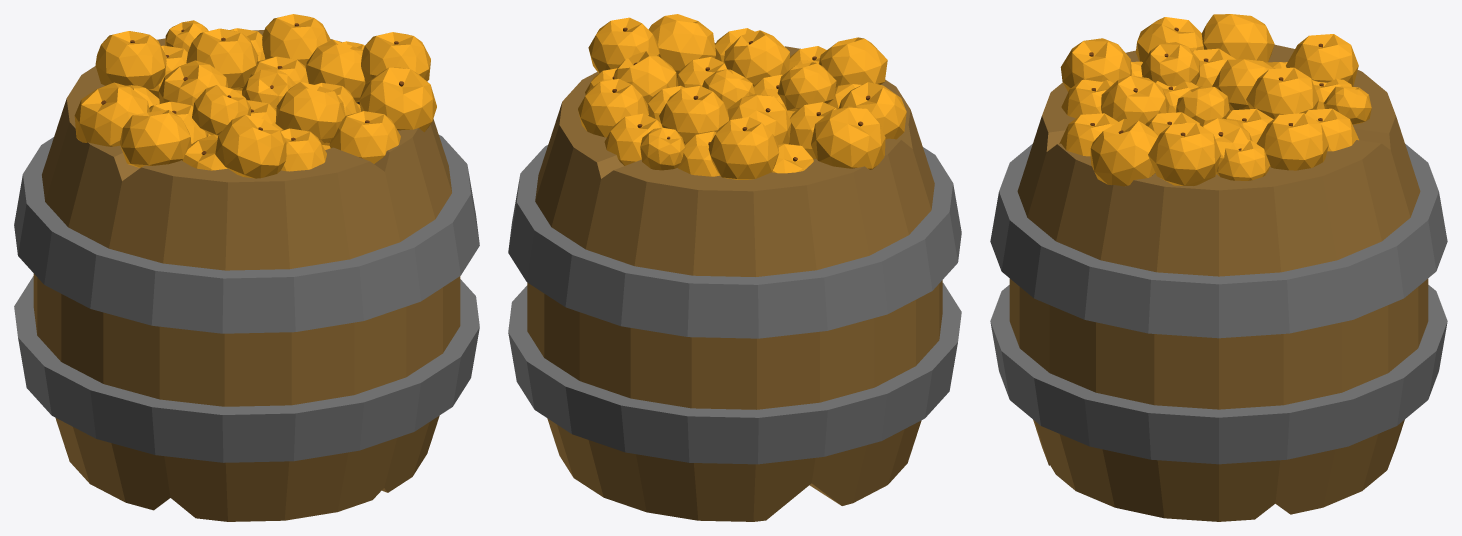
File: Barrel_Fruit_Lemons.fbx
3 views of the same model, side by side, from view 1: azimuth 30°, elevation 25°; view 2: azimuth 150°, elevation 25°; view 3: azimuth 270°, elevation 25° (orthographic). The views are drawn at different scales.
Parts seen in each view (by area): view 1: Barrel1.001, Lemon; view 2: Barrel1.001, Lemon; view 3: Barrel1.001, Lemon.
Boxes of the visible parts, bbox=[...] form: Barrel1.001: bbox=[14, 30, 479, 521]; Lemon: bbox=[74, 14, 436, 178]; Barrel1.001: bbox=[508, 43, 961, 521]; Lemon: bbox=[578, 14, 906, 179]; Barrel1.001: bbox=[990, 44, 1447, 521]; Lemon: bbox=[1059, 14, 1371, 186].
Bounding box in the file's own units: 100 × 91.78 × 100.
